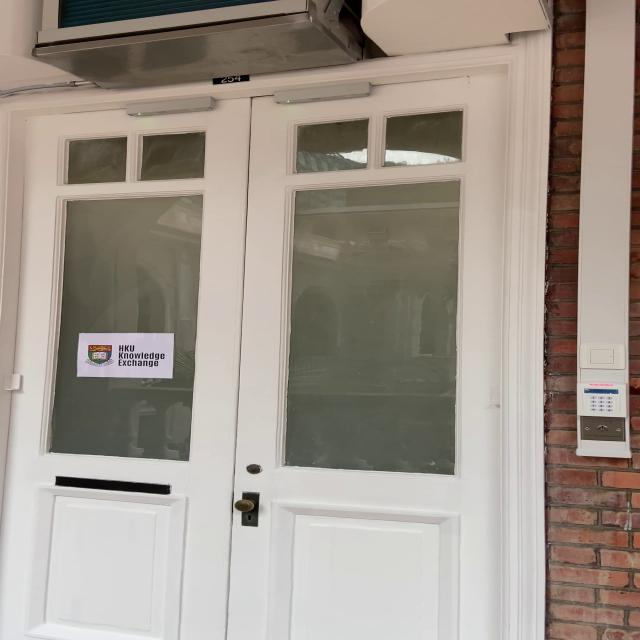room254: (211, 73, 250, 86)
